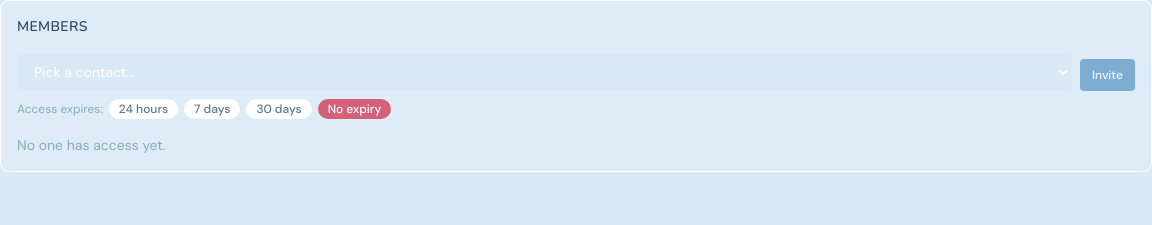
Test: MembersPanel › surfaces invite failures
The width and height of the screenshot is (1152, 225).
Select "Carla" in the dropdown named "Invite contact" at (544, 72), box [17,53,1072,91]
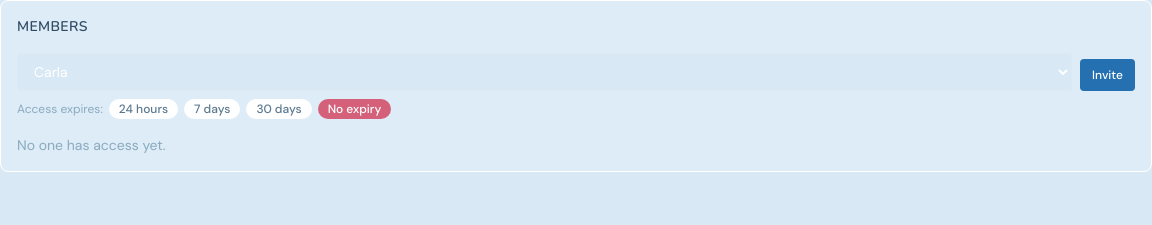
Click the button "Invite".
click(1108, 75)  # box [1080,59,1135,91]
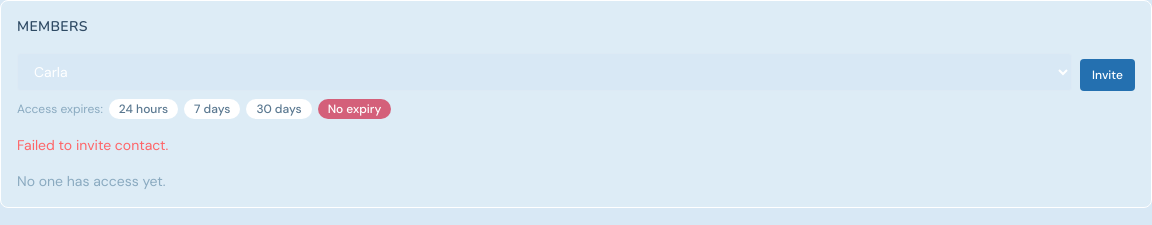
Expected: the message reads "Failed to invite contact.", [17,136,168,154]
